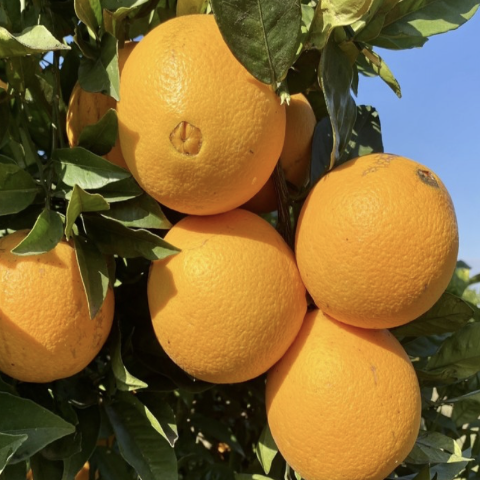orange: (110, 6, 305, 217), (242, 296, 441, 472), (134, 195, 312, 380), (295, 156, 478, 325)
